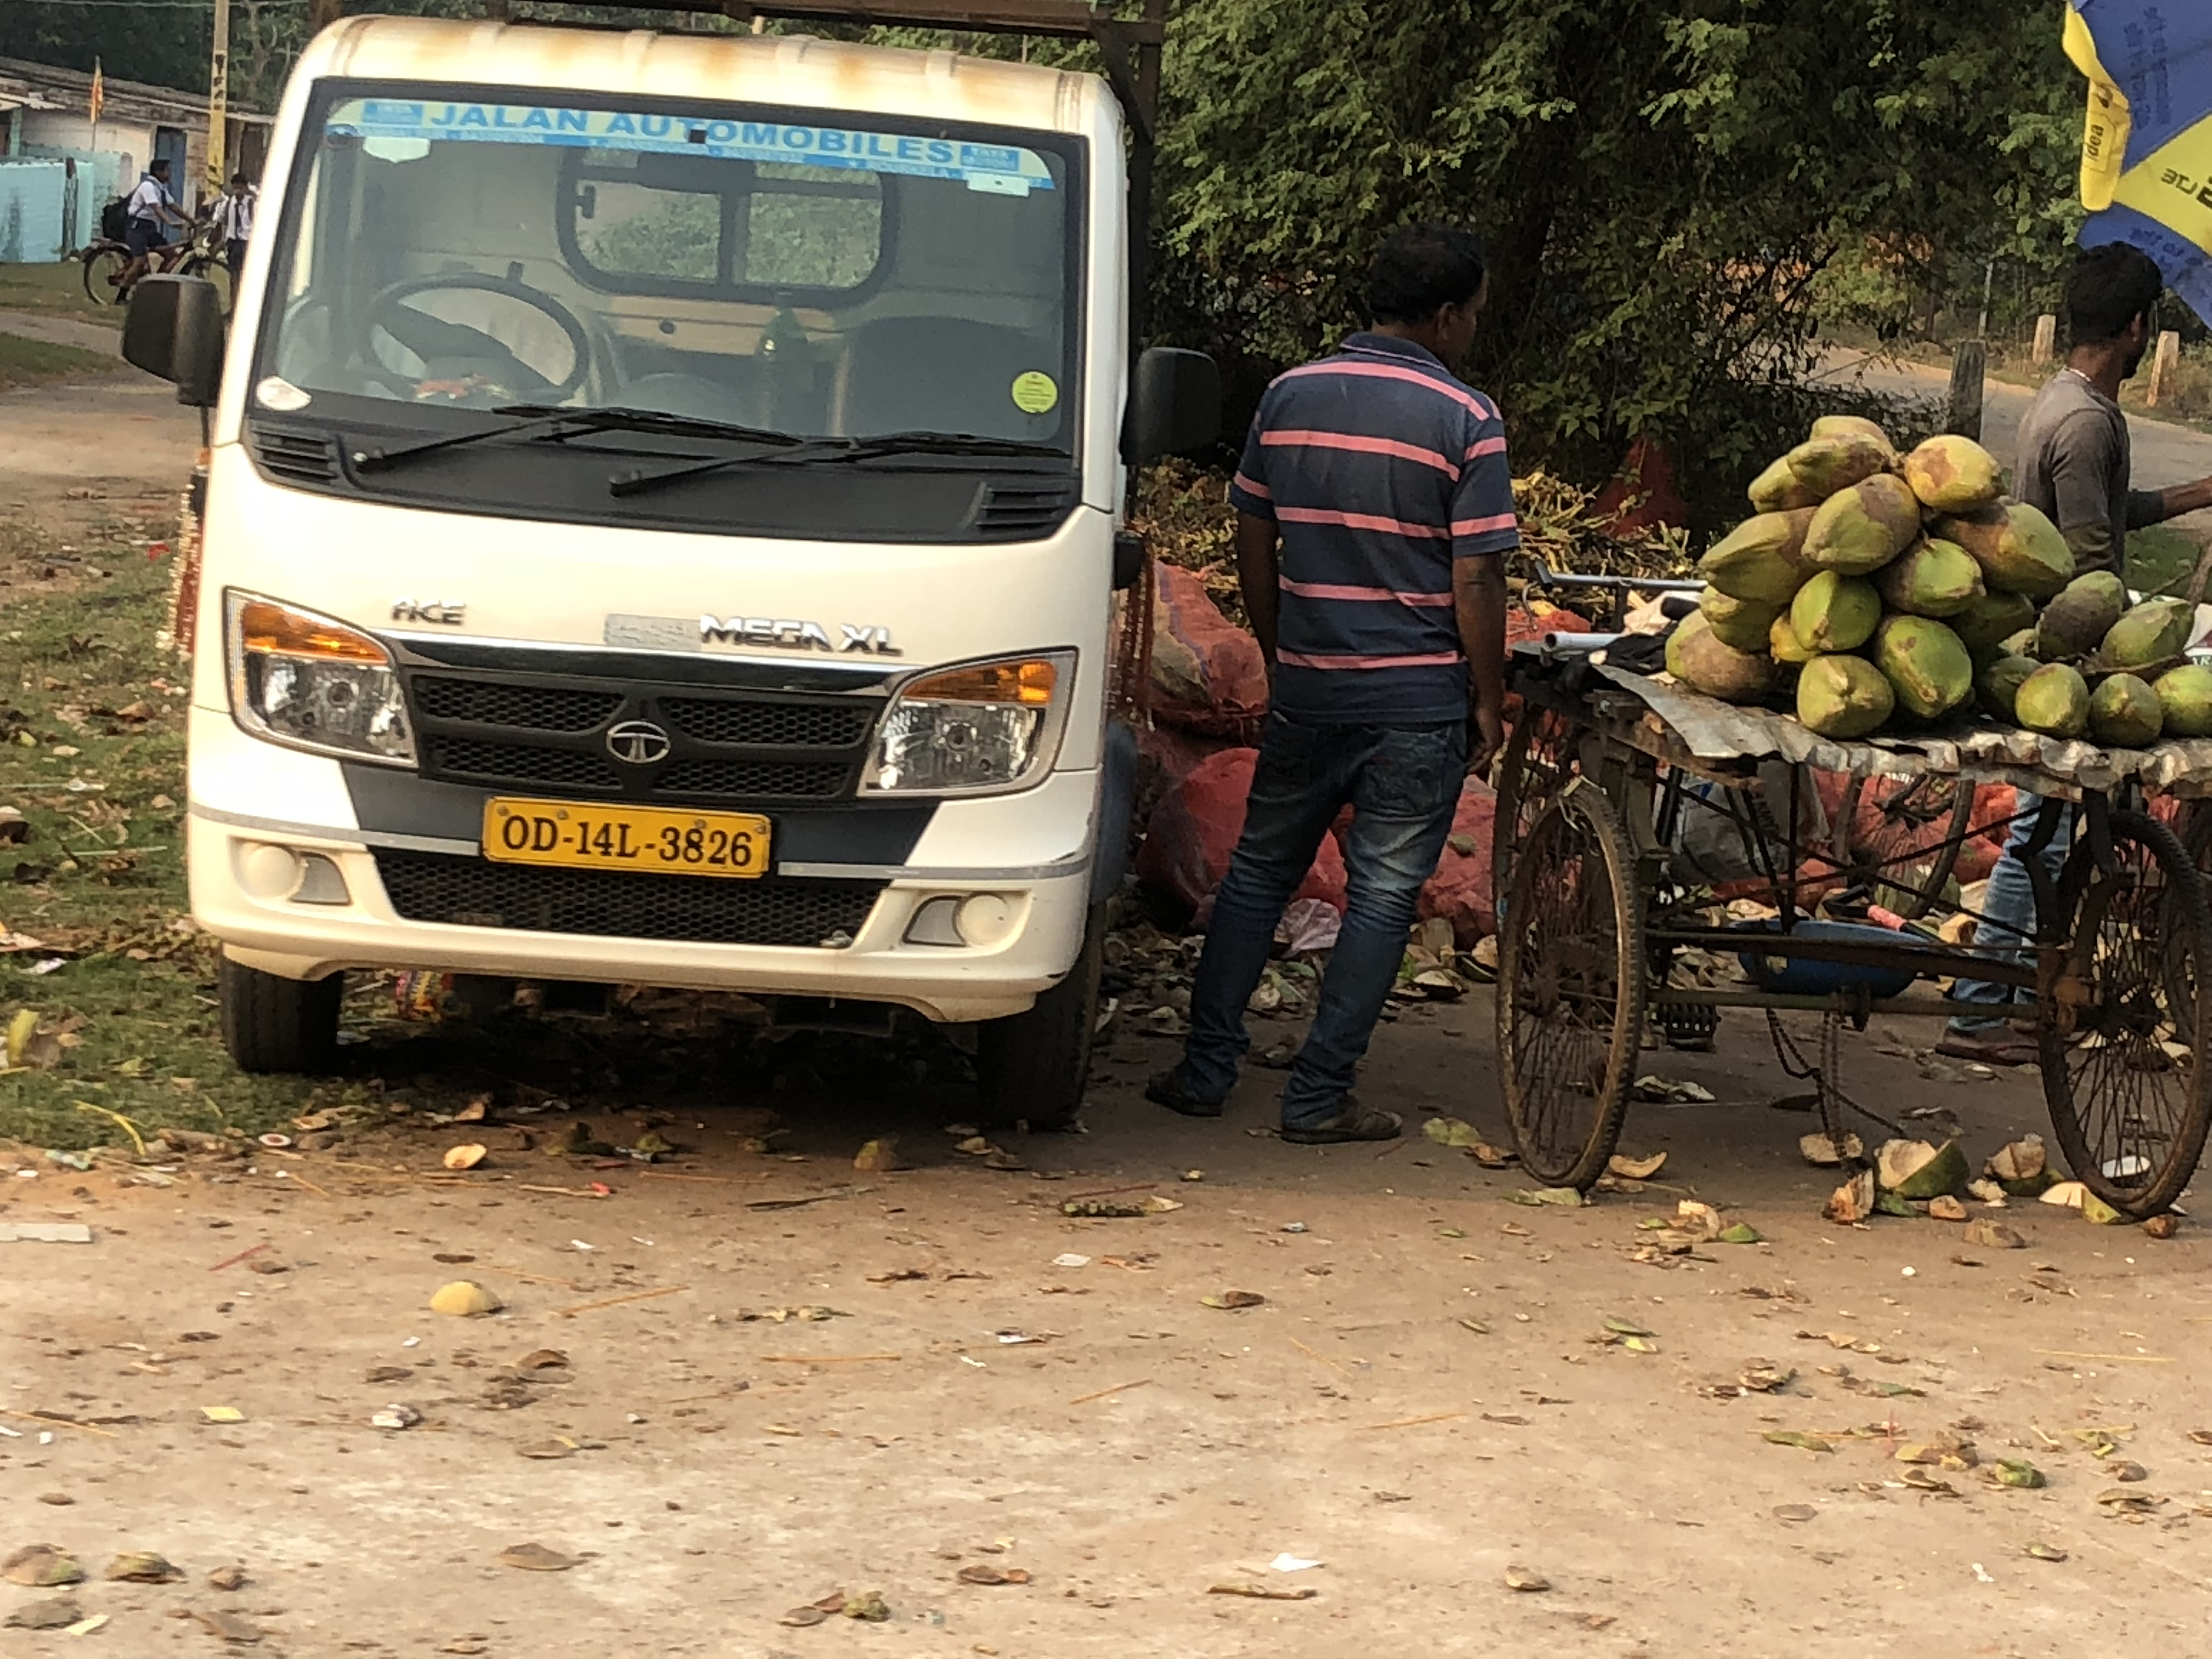licenseplate: (478, 785, 786, 890)
